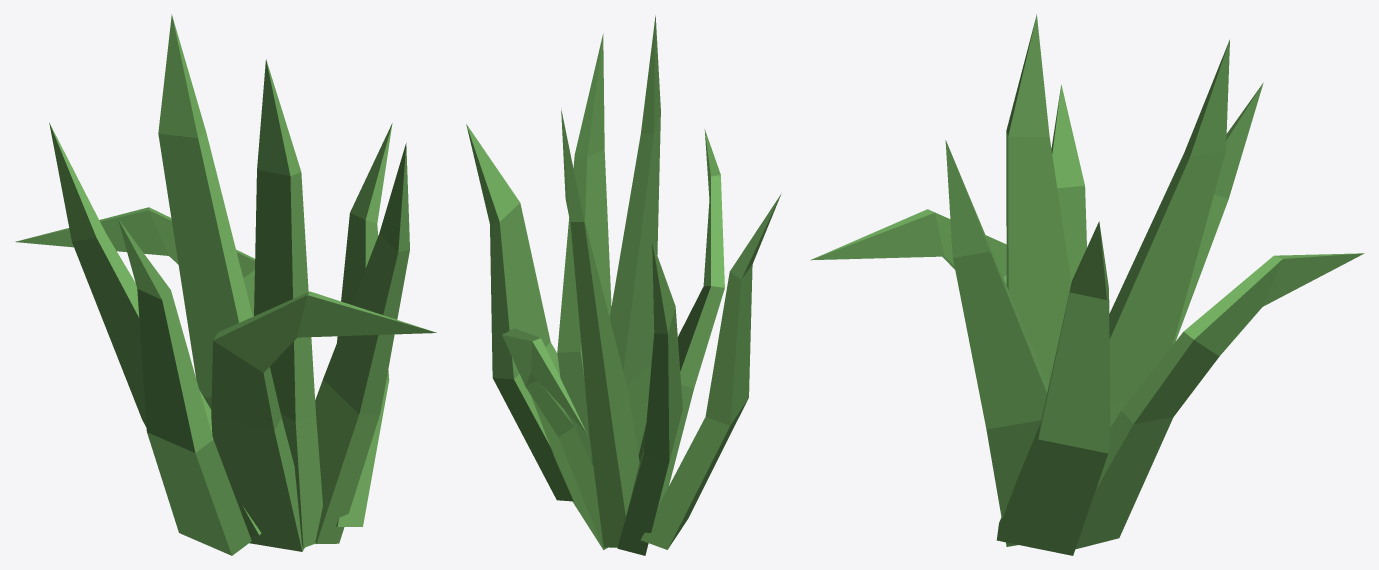
File: grass1.fbx
3 renders of one model, left to right at view 1: azimuth 30°, elevation 25°; view 2: azimuth 150°, elevation 25°; view 3: azimuth 270°, elevation 25°, orthographic. The views are drawn at different scales.
Visible parts, largest first — view 1: grass 2; view 2: grass 2; view 3: grass 2.
Boxes of the visible parts, box(x1,y1,x2,y2) form: grass 2: box(15, 14, 436, 555); grass 2: box(466, 15, 781, 555); grass 2: box(810, 14, 1364, 555).
Bounding box in the file's own units: 96.8 × 159 × 154.
